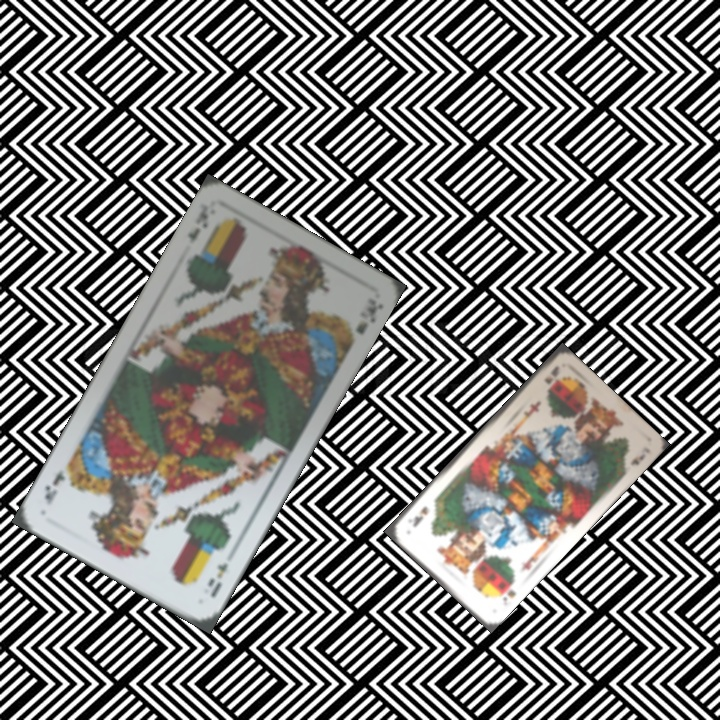EK: (183, 200, 211, 247), (203, 559, 231, 600)
SK: (499, 577, 518, 608), (541, 362, 562, 387)
